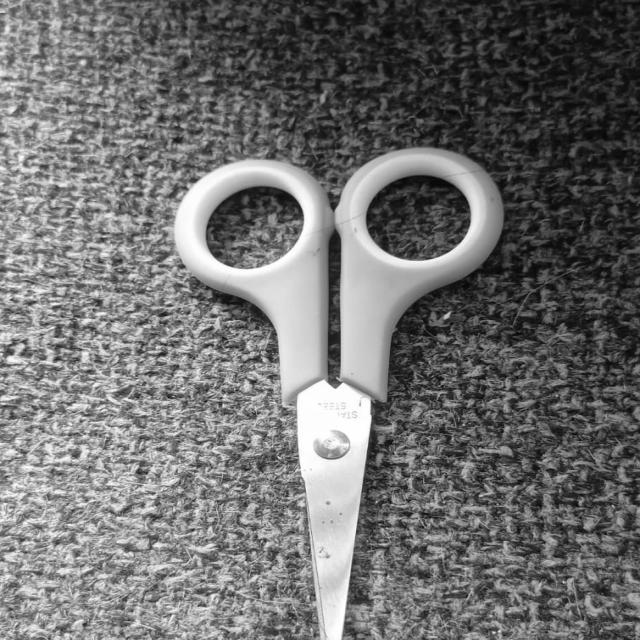tesoura: (175, 148, 503, 639)
